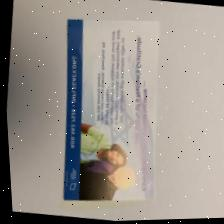paper: (37, 3, 175, 223)
